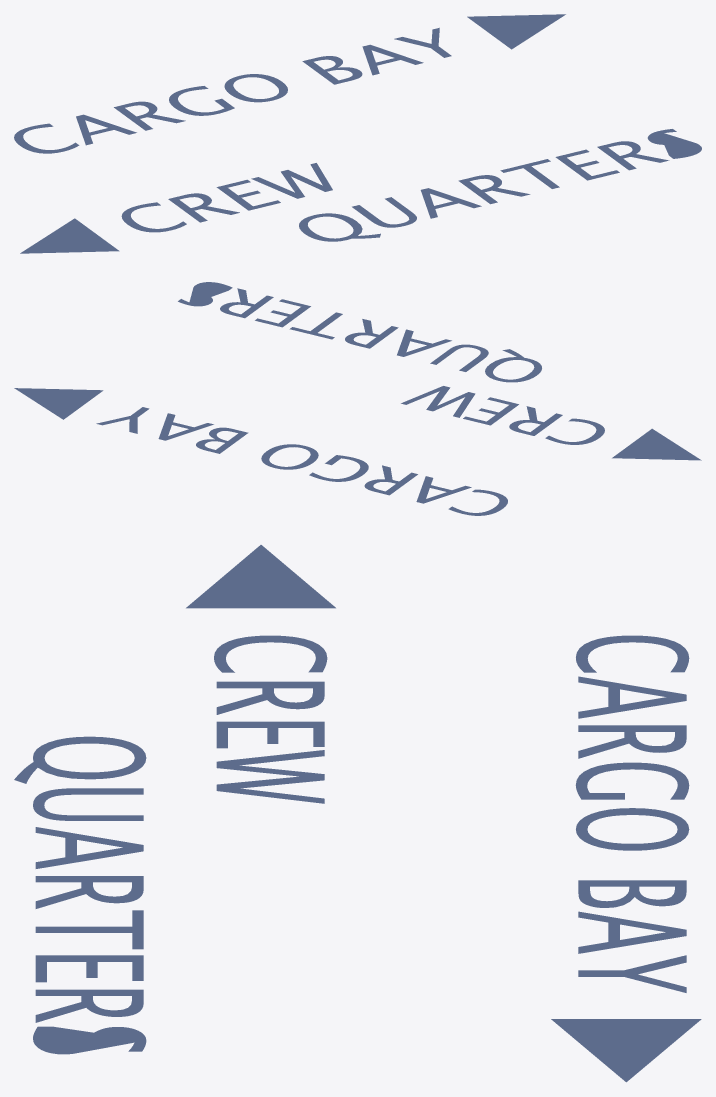
Rendered from Cargo_Crew.fbx.
3 views of the same model, one above another, from view 1: azimuth 30°, elevation 25°; view 2: azimuth 150°, elevation 25°; view 3: azimuth 270°, elevation 25° (orthographic). The views are drawn at different scales.
Visible parts, largest first — view 1: Cargo_Crew; view 2: Cargo_Crew; view 3: Cargo_Crew.
Boxes of the visible parts, <box> form: Cargo_Crew: <box>14,14,701,253</box>; Cargo_Crew: <box>14,282,701,515</box>; Cargo_Crew: <box>14,545,701,1082</box>.
Size of the model in its own units: 1211 by 6.44e-06 by 655.
